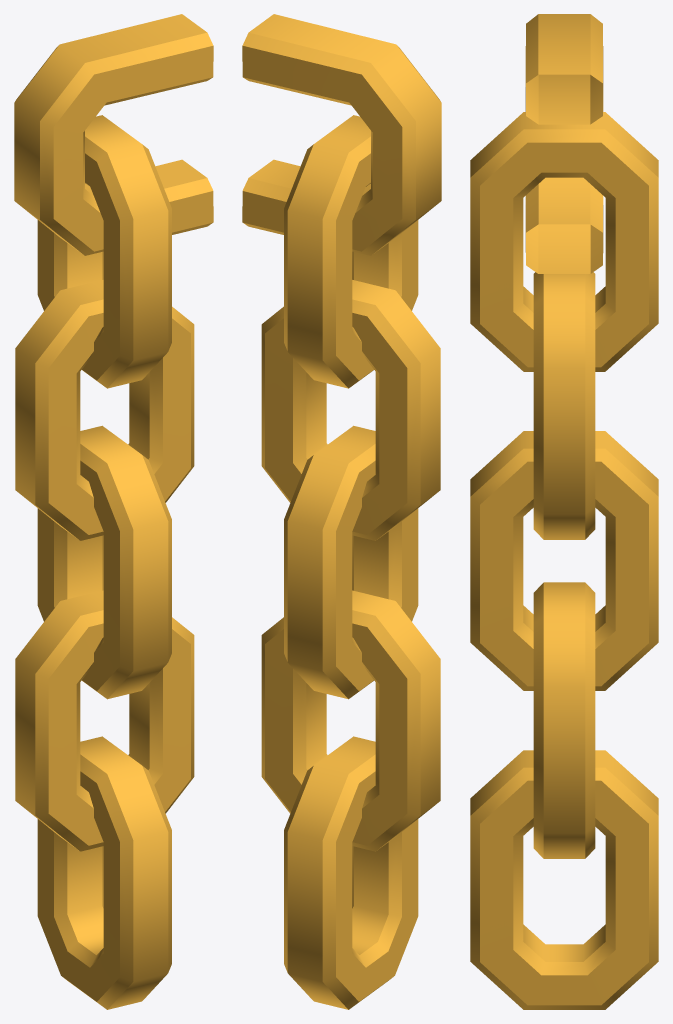
File: Chain_2_2.obj
The picture shows the model from 3 angles, left to right: view 1: azimuth 30°, elevation 25°; view 2: azimuth 150°, elevation 25°; view 3: azimuth 270°, elevation 25°; orthographic projection. The views are drawn at different scales.
Parts seen in each view (by area): view 1: Chain_2_2; view 2: Chain_2_2; view 3: Chain_2_2.
Part boxes in pixels (left/top/right/bottom): Chain_2_2: left=14, top=14, right=213, bottom=1009; Chain_2_2: left=242, top=14, right=441, bottom=1009; Chain_2_2: left=470, top=14, right=658, bottom=1009.
Size of the model in its own units: 0.1149 by 0.6127 by 0.1077.
